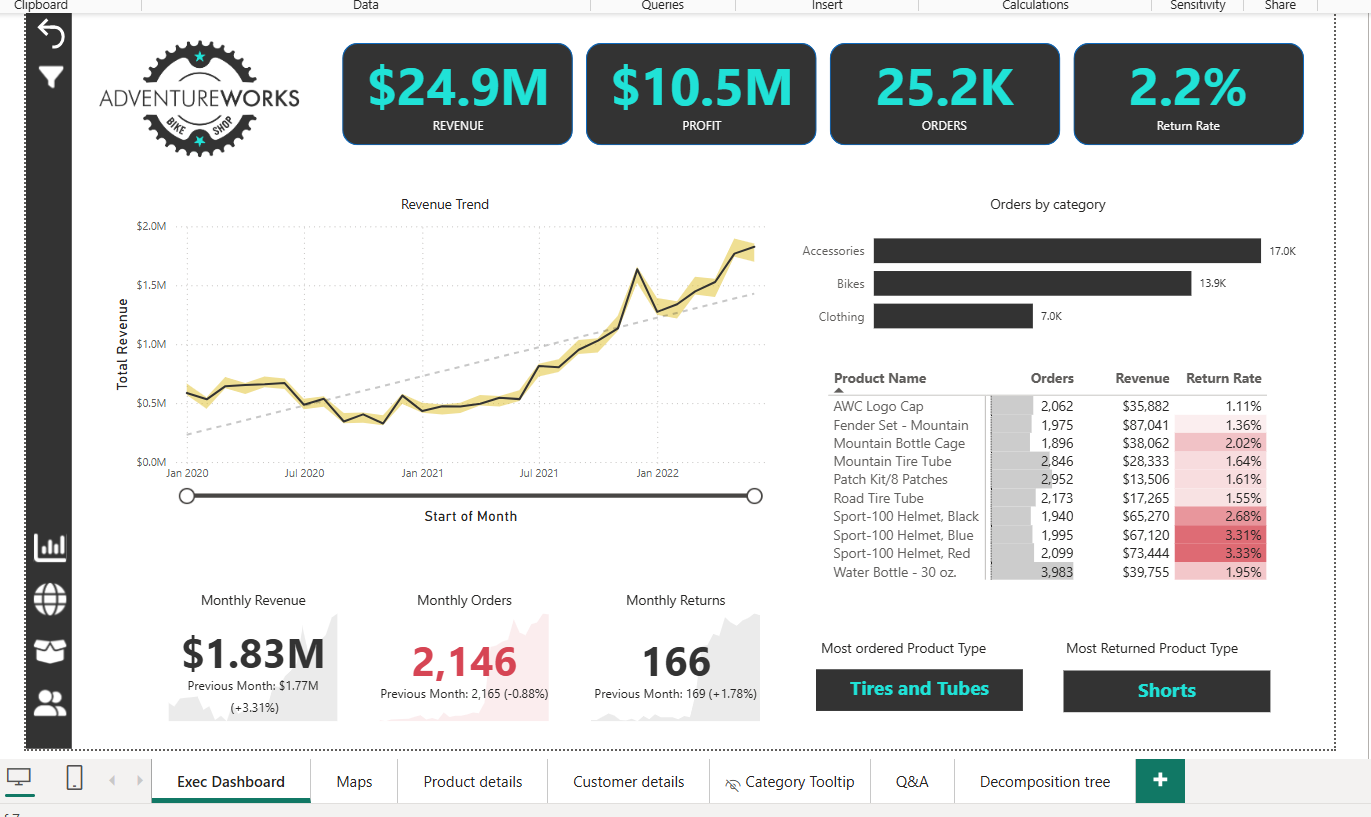

The dashboard page shown, as its layout file describes it:
{"tool":"powerbi","page":{"name":"Exec Dashboard","canvas":[1280,720],"ordinal":0},"visuals":[{"type":"card","fields":{"Values":["Measure Table.Total Revenue"]},"box":[298.6,2.5,249.4,149.4],"z":0,"group":"g2"},{"type":"image","title":"AW Logo","box":[44.8,16.2,250,135.6],"z":0},{"type":"group","id":"g1","title":"KPI backgrounds","box":[309.2,28.9,940.7,100],"z":0,"group":"g3"},{"type":"shape","box":[309.2,28.9,225.6,100],"z":0,"group":"g1"},{"type":"actionButton","box":[3.1,603.8,39.8,41.1],"z":0,"group":"g4"},{"type":"shape","title":"Left Nav Background","box":[0,0,45,719.8],"z":1000},{"type":"group","id":"g2","title":"KPIs Values","box":[298.6,2.5,963.6,149.4],"z":1000,"group":"g3"},{"type":"card","fields":{"Values":["Measure Table.Total Profit"]},"box":[536.7,2.5,249.4,149.4],"z":1000,"group":"g2"},{"type":"shape","box":[547.6,28.9,225.6,100],"z":1000,"group":"g1"},{"type":"actionButton","box":[3.1,502.6,39.8,41.1],"z":1000,"group":"g4"},{"type":"group","id":"g3","title":"KPIs","box":[298.6,2.5,964.1,149.3],"z":2000},{"type":"card","fields":{"Values":["Measure Table.Total Orders"]},"box":[774.8,2.5,249.4,149.4],"z":2000,"group":"g2"},{"type":"shape","box":[785.9,28.9,225.6,100],"z":2000,"group":"g1"},{"type":"actionButton","box":[3.1,553.2,39.8,41.1],"z":2000,"group":"g4"},{"type":"card","fields":{"Values":["Measure Table.Return Rate"]},"box":[1012.9,2.5,249.4,149.4],"z":3000,"group":"g2"},{"type":"shape","box":[1024.3,28.9,225.6,100],"z":3000,"group":"g1"},{"type":"lineChart","title":"Revenue Trend","fields":{"Y":["Measure Table.Total Revenue"],"Category":["Calendar Lookup.Start of Month"]},"box":[80.9,177.9,658.1,327.2],"z":3000},{"type":"actionButton","box":[3.1,654.4,39.8,41.1],"z":3000,"group":"g4"},{"type":"kpi","title":"Monthly Revenue","fields":{"Indicator":["Measure Table.Total Revenue"],"TrendLine":["Calendar Lookup.Start of Month"],"Goal":["Measure Table.Previous Month Revenue"]},"box":[134.3,564.8,175.4,133.1],"z":4000},{"type":"kpi","title":"Monthly Returns","fields":{"TrendLine":["Calendar Lookup.Start of Month"],"Indicator":["Measure Table.Total Returns"],"Goal":["Measure Table.Previous Months Returns"]},"box":[547.3,564.8,175.4,133.1],"z":5000},{"type":"kpi","title":"Monthly Orders","fields":{"TrendLine":["Calendar Lookup.Start of Month"],"Indicator":["Measure Table.Total Orders"],"Goal":["Measure Table.Previous Month Order"]},"box":[340.8,564.8,175.4,133.1],"z":6000},{"type":"clusteredBarChart","title":"Orders by category","fields":{"Category":["Product Categories Lookup.CategoryName"],"Y":["Measure Table.Total Orders"]},"box":[750.1,177.9,500.1,150.5],"z":7000},{"type":"pivotTable","fields":{"Rows":["Product Lookup.ProductName"],"Values":["Measure Table.Total Orders","Measure Table.Total Revenue","Measure Table.Return Rate"]},"box":[780,342.1,470.2,221.4],"z":8000},{"type":"card","fields":{"Values":["Min(Product Subcategories Lookup.SubcategoryName)"]},"box":[772.5,641.9,202.8,41.1],"z":9000},{"type":"textbox","box":[772.5,607.1,171.7,48.5],"z":10000},{"type":"card","fields":{"Values":["Min(Product Subcategories Lookup.SubcategoryName)"]},"box":[1014.4,642.9,202.8,41.1],"z":11000},{"type":"textbox","box":[1012.6,607.1,180.4,48.5],"z":12000},{"type":"actionButton","box":[5,0,39.8,39.8],"z":13000},{"type":"group","id":"g4","title":"Navigation buttons","box":[3.1,502.6,39.8,192.8],"z":14000},{"type":"actionButton","box":[8.7,46,39.8,32.3],"z":15000}]}

Visuals, with their boxes on the page's 1280x720 design canvas (x1, y1, x2, y2). These are canvas units, not pixel positions in the 1371x817 screenshot, which may show the page scaled, cropped or inside an application window:
card - Measure Table.Total Revenue: [299, 2, 548, 152]
"AW Logo" image: [45, 16, 295, 152]
"KPI backgrounds" group: [309, 29, 1250, 129]
shape: [309, 29, 535, 129]
actionButton: [3, 604, 43, 645]
"Left Nav Background" shape: [0, 0, 45, 720]
"KPIs Values" group: [299, 2, 1262, 152]
card - Measure Table.Total Profit: [537, 2, 786, 152]
shape: [548, 29, 773, 129]
actionButton: [3, 503, 43, 544]
"KPIs" group: [299, 2, 1263, 152]
card - Measure Table.Total Orders: [775, 2, 1024, 152]
shape: [786, 29, 1012, 129]
actionButton: [3, 553, 43, 594]
card - Measure Table.Return Rate: [1013, 2, 1262, 152]
shape: [1024, 29, 1250, 129]
"Revenue Trend" lineChart: [81, 178, 739, 505]
actionButton: [3, 654, 43, 696]
"Monthly Revenue" kpi: [134, 565, 310, 698]
"Monthly Returns" kpi: [547, 565, 723, 698]
"Monthly Orders" kpi: [341, 565, 516, 698]
"Orders by category" clusteredBarChart: [750, 178, 1250, 328]
pivotTable - Product Lookup.ProductName x Measure Table.Total Orders: [780, 342, 1250, 564]
card - Min(Product Subcategories Lookup.SubcategoryName): [772, 642, 975, 683]
textbox: [772, 607, 944, 656]
card - Min(Product Subcategories Lookup.SubcategoryName): [1014, 643, 1217, 684]
textbox: [1013, 607, 1193, 656]
actionButton: [5, 0, 45, 40]
"Navigation buttons" group: [3, 503, 43, 695]
actionButton: [9, 46, 48, 78]
